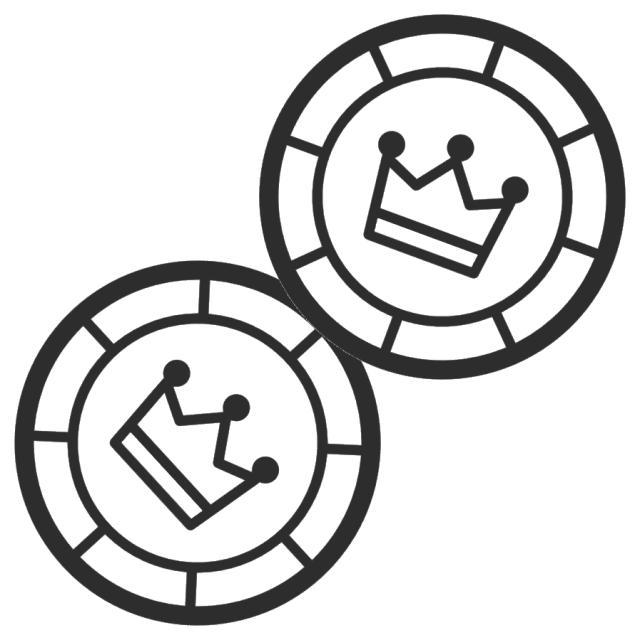coin: (251, 10, 629, 385), (13, 253, 386, 632)
